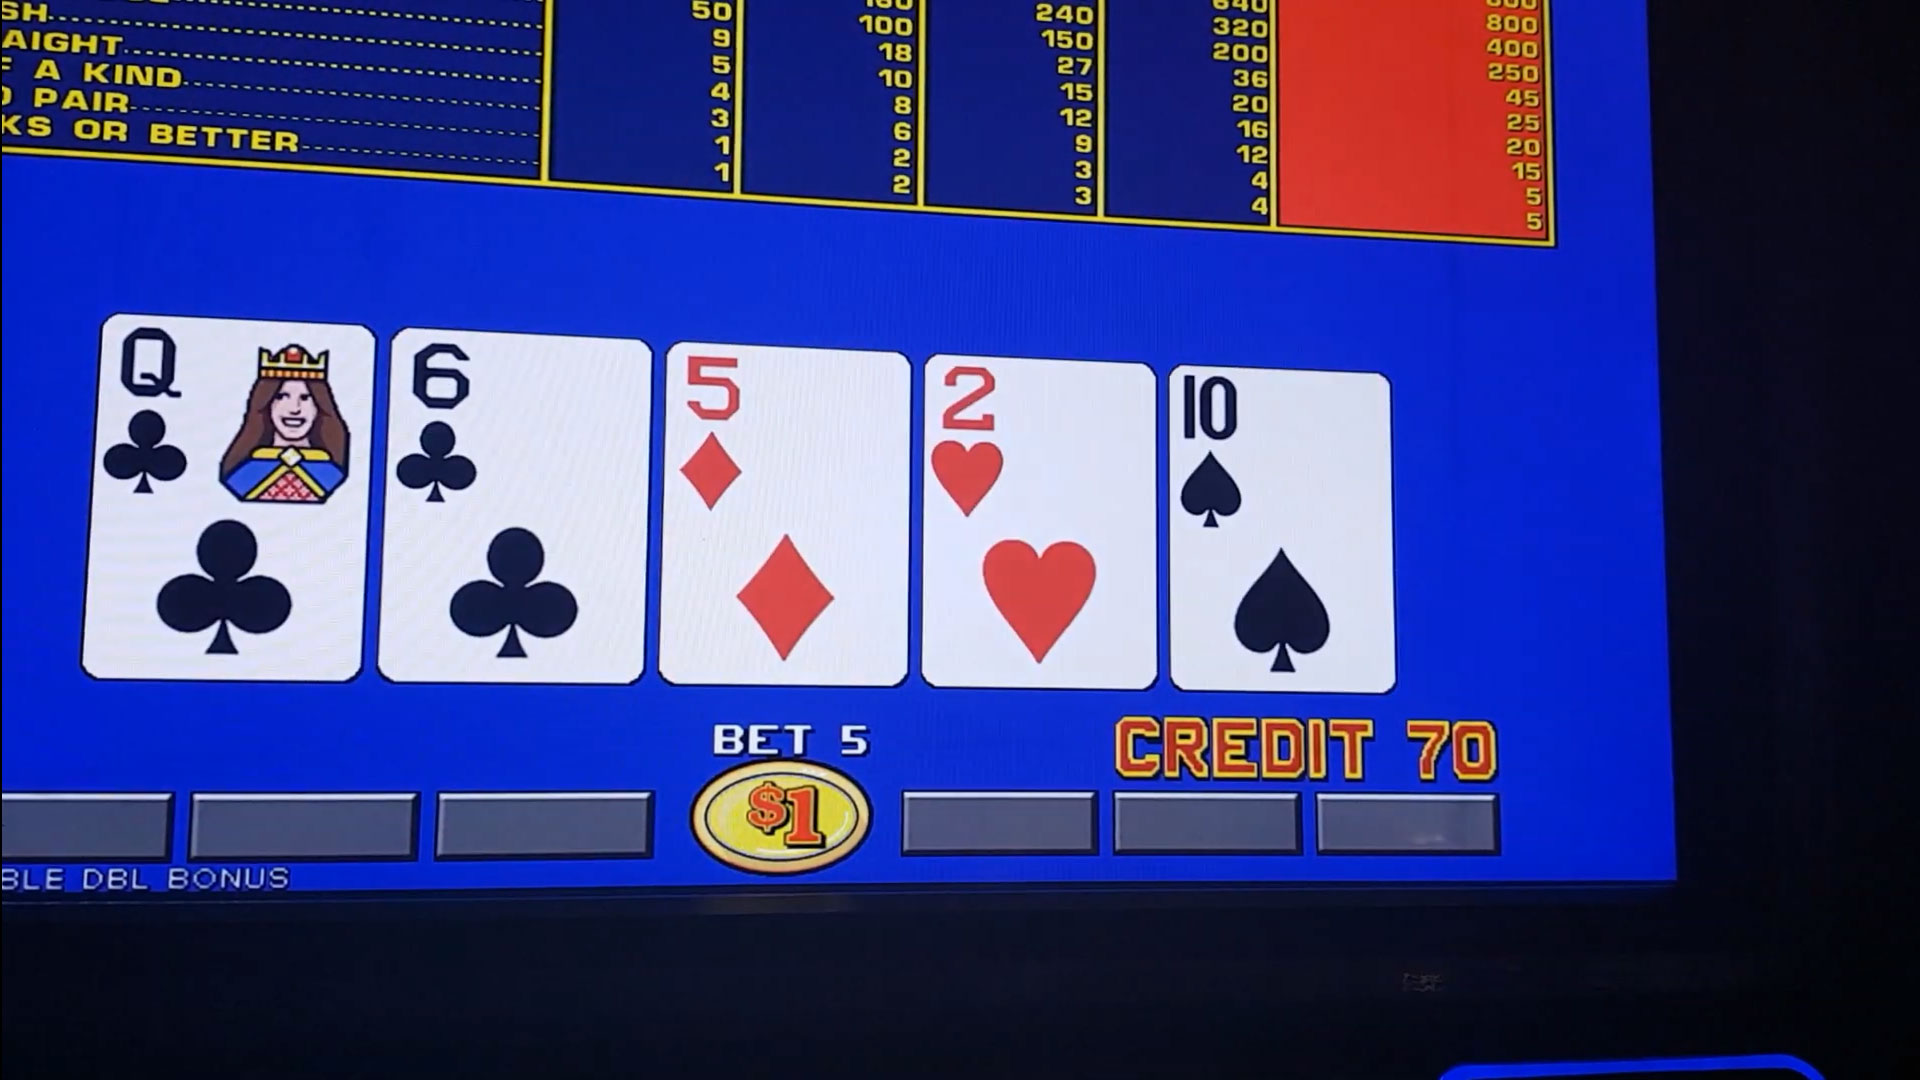C6: (392, 342, 646, 517)
CQ: (105, 332, 361, 512)
D5: (669, 353, 906, 525)
H2: (924, 367, 1153, 535)
ST: (1174, 377, 1385, 535)
